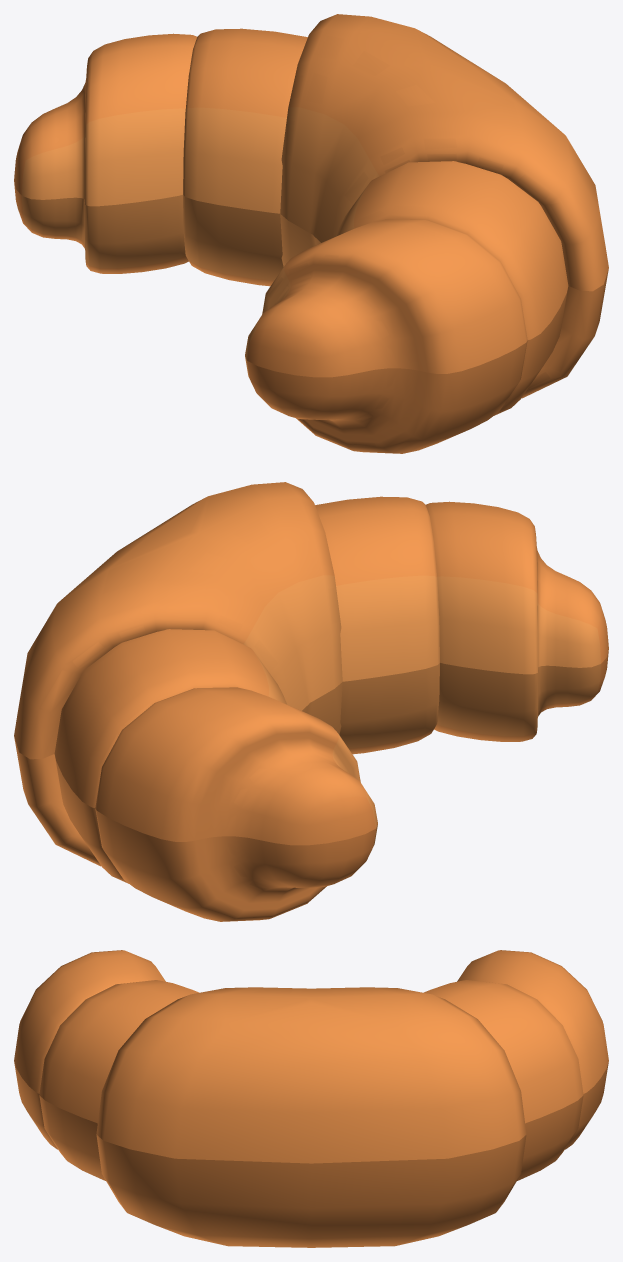
The model's file is croissant.fbx.
3 views of the same model, one above another, from view 1: azimuth 30°, elevation 25°; view 2: azimuth 150°, elevation 25°; view 3: azimuth 270°, elevation 25° (orthographic). The views are drawn at different scales.
Visible parts, largest first — view 1: Croissant; view 2: Croissant; view 3: Croissant.
Part boxes in pixels (left/top/right/bottom): Croissant: left=14, top=14, right=608, bottom=453; Croissant: left=14, top=482, right=608, bottom=921; Croissant: left=14, top=950, right=608, bottom=1247.
Bounding box in the file's own units: 523 × 355 × 800.
